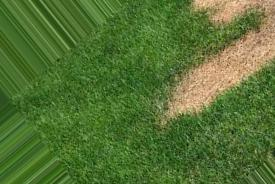patch: (175, 84, 215, 109), (194, 55, 240, 74), (236, 38, 275, 52), (211, 8, 239, 19)
